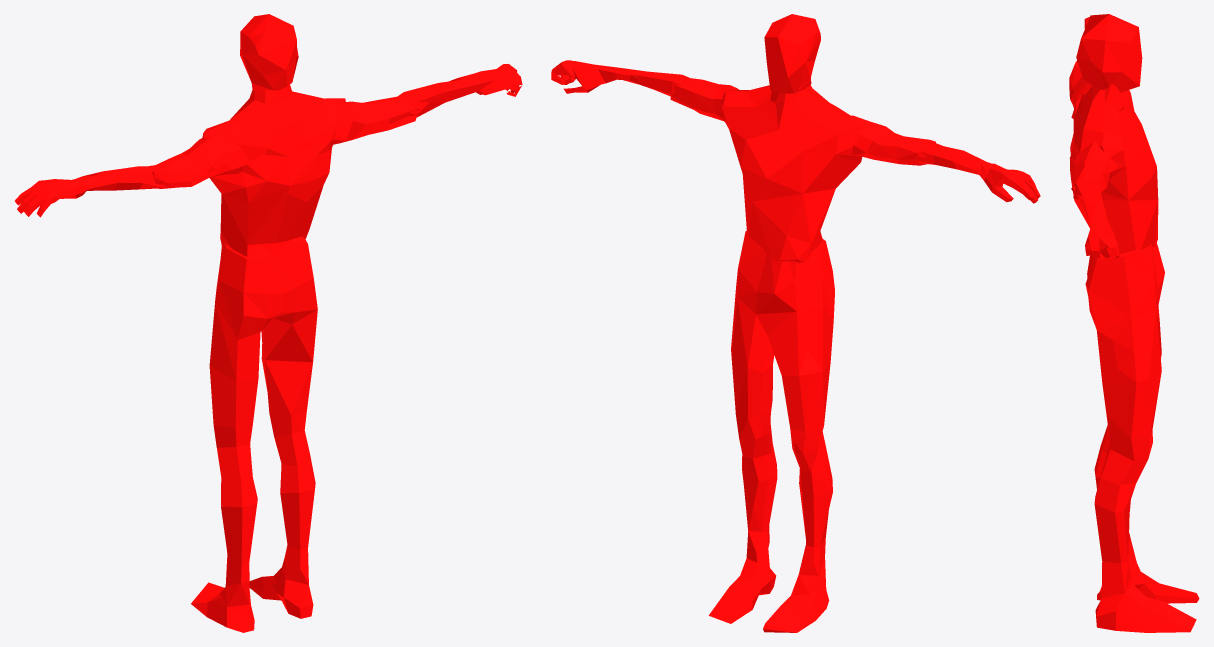
File: red_crystal_enemy_parts.glb
3 views of the same model, side by side, from view 1: azimuth 30°, elevation 25°; view 2: azimuth 150°, elevation 25°; view 3: azimuth 270°, elevation 25° (orthographic). The views are drawn at different scales.
Parts seen in each view (by area): view 1: GEO_m_torso, GEO_m_hips, GEO_m_shin_L, GEO_m_shin_R, GEO_m_thigh_L, GEO_m_thigh_R, GEO_m_head, GEO_m_upper_arm_L, GEO_m_forearm_L, GEO_m_forearm_R, GEO_m_upper_arm_R; view 2: GEO_m_torso, GEO_m_thigh_L, GEO_m_hips, GEO_m_shin_L, GEO_m_shin_R, GEO_m_thigh_R, GEO_m_head, GEO_m_forearm_L, GEO_m_forearm_R, GEO_m_upper_arm_L, GEO_m_upper_arm_R; view 3: GEO_m_torso, GEO_m_shin_R, GEO_m_thigh_R, GEO_m_hips, GEO_m_head, GEO_m_forearm_R, GEO_m_shin_L, GEO_m_upper_arm_R, GEO_m_upper_arm_L.
Boxes of the visible parts, left/top/right/bottom form: GEO_m_torso: left=202, top=84, right=345, bottom=256; GEO_m_hips: left=215, top=236, right=317, bottom=340; GEO_m_shin_L: left=191, top=444, right=257, bottom=632; GEO_m_shin_R: left=249, top=430, right=315, bottom=618; GEO_m_thigh_L: left=209, top=302, right=260, bottom=447; GEO_m_thigh_R: left=261, top=309, right=317, bottom=435; GEO_m_head: left=240, top=14, right=298, bottom=90; GEO_m_upper_arm_L: left=149, top=130, right=248, bottom=188; GEO_m_forearm_L: left=15, top=166, right=164, bottom=217; GEO_m_forearm_R: left=397, top=64, right=522, bottom=117; GEO_m_upper_arm_R: left=332, top=96, right=419, bottom=144; GEO_m_torso: left=721, top=85, right=864, bottom=263; GEO_m_thigh_L: left=767, top=307, right=833, bottom=454; GEO_m_hips: left=736, top=231, right=834, bottom=334; GEO_m_shin_L: left=763, top=432, right=832, bottom=632; GEO_m_shin_R: left=709, top=425, right=777, bottom=623; GEO_m_thigh_R: left=731, top=286, right=774, bottom=439; GEO_m_head: left=764, top=14, right=820, bottom=93; GEO_m_forearm_L: left=914, top=140, right=1040, bottom=203; GEO_m_forearm_R: left=551, top=60, right=689, bottom=96; GEO_m_upper_arm_L: left=848, top=115, right=935, bottom=165; GEO_m_upper_arm_R: left=670, top=77, right=738, bottom=121; GEO_m_torso: left=1069, top=84, right=1158, bottom=260; GEO_m_shin_R: left=1094, top=444, right=1196, bottom=632; GEO_m_thigh_R: left=1096, top=310, right=1161, bottom=461; GEO_m_hips: left=1085, top=243, right=1164, bottom=329; GEO_m_head: left=1076, top=14, right=1142, bottom=92; GEO_m_forearm_R: left=1071, top=176, right=1119, bottom=258; GEO_m_shin_L: left=1094, top=425, right=1199, bottom=603; GEO_m_upper_arm_R: left=1072, top=142, right=1117, bottom=199; GEO_m_upper_arm_L: left=1069, top=61, right=1091, bottom=119.
Bounding box in the file's own units: 1.69 × 1.95 × 0.385.
